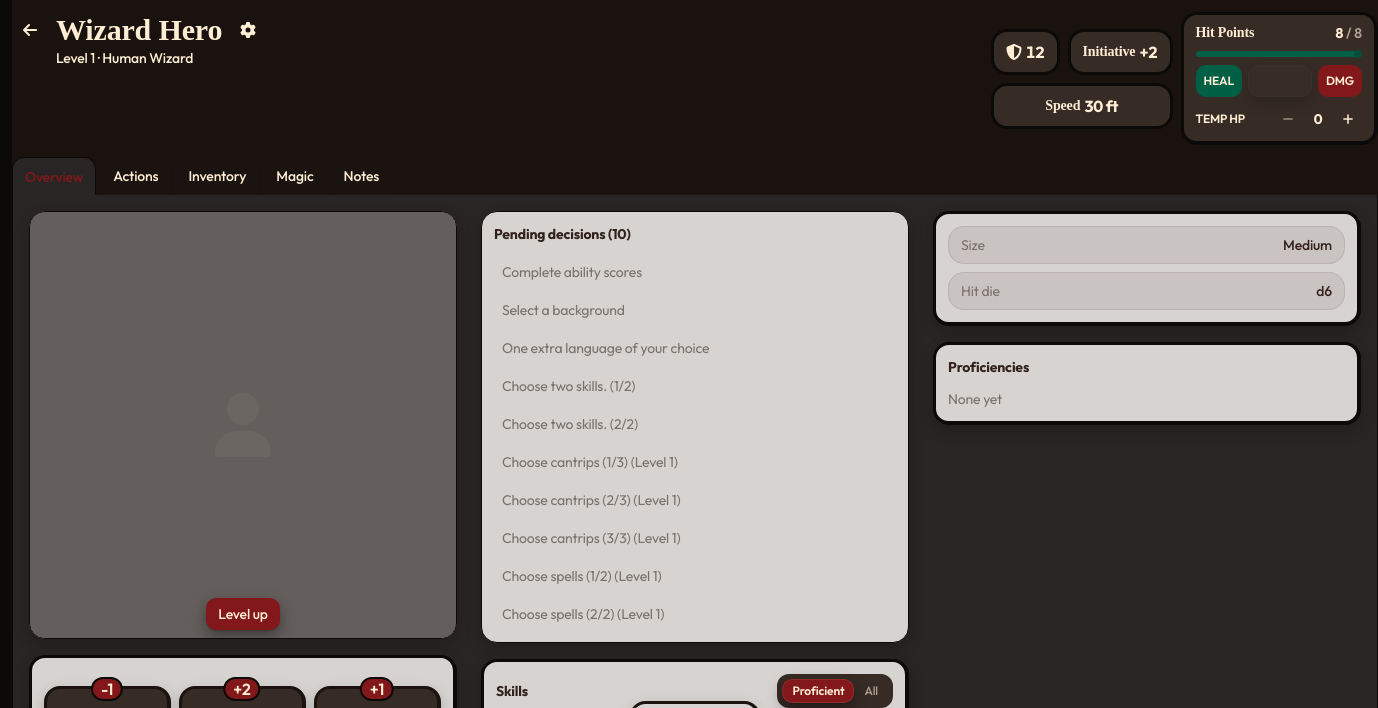
Test: PlayerSheet › shows spell save DC and attack on combat for a caster
The image size is (1378, 708).
Expected: the text "Spell save DC" is not shown
Click the tab "Actions" at (136, 176), box [100,157,171,195]
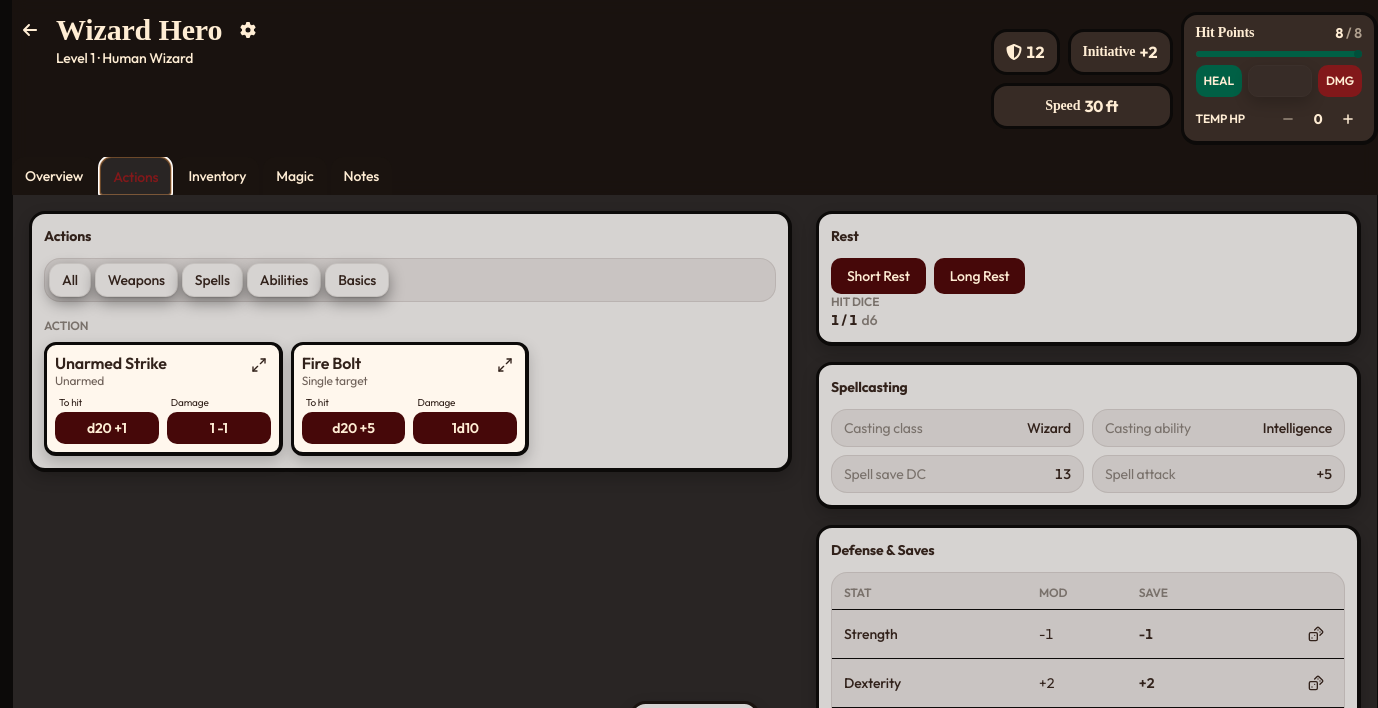
Expected: the text "Spellcasting" is shown, [831,377,908,397]
Expected: the text "Spell save DC" is shown, [844,464,926,484]
Expected: the text "Spell attack" is shown, [1105,464,1176,484]
